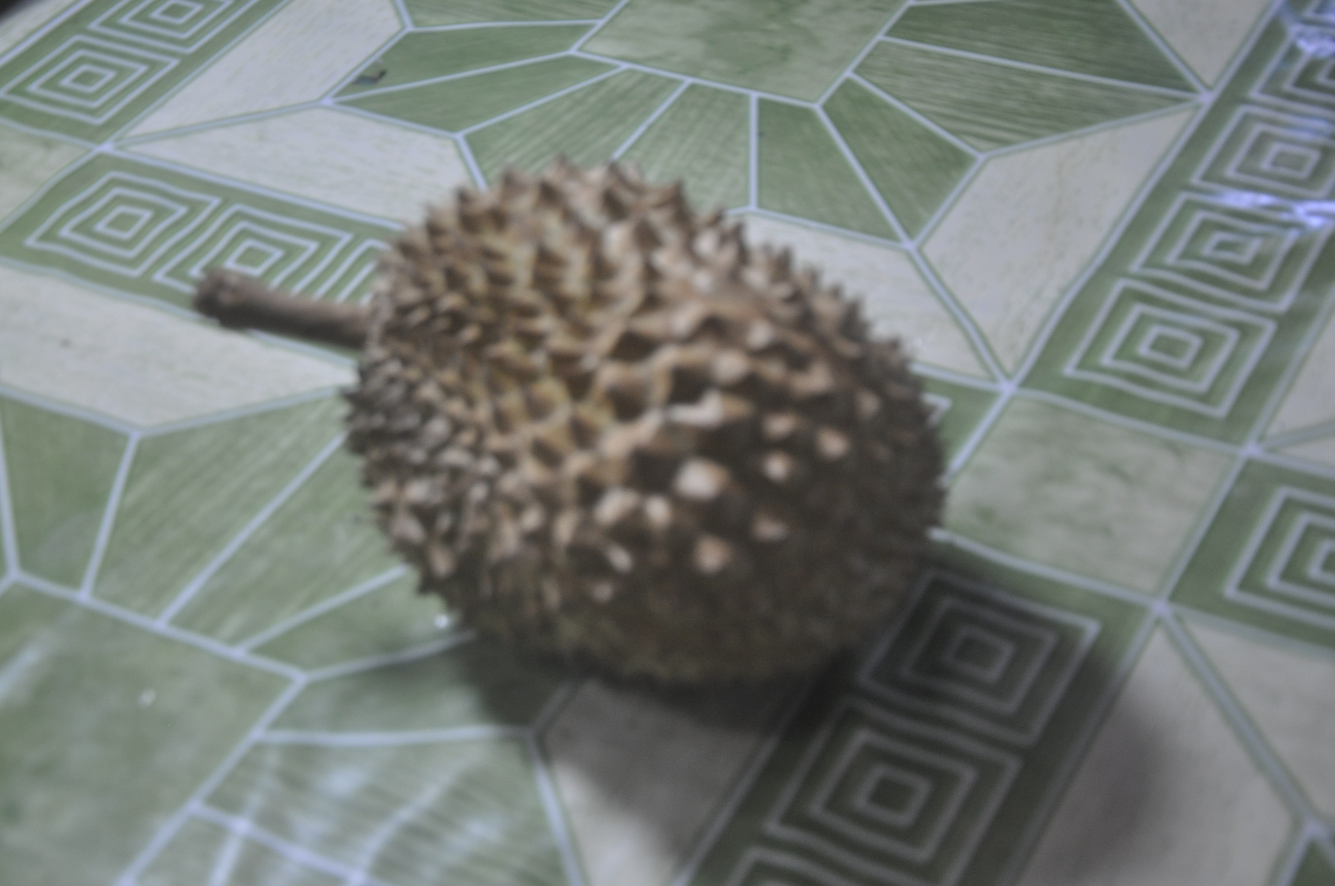mature: (195, 161, 941, 685)
